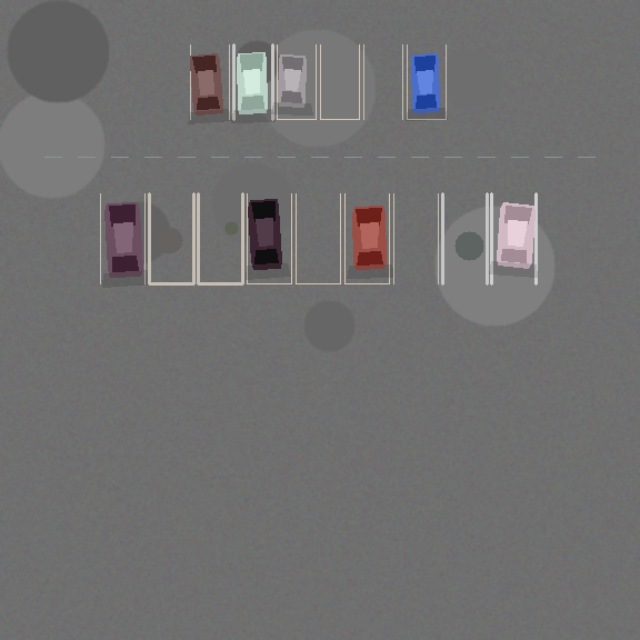space-empty: (393, 193, 438, 283), (442, 193, 487, 283), (149, 193, 193, 283), (198, 193, 242, 283), (296, 193, 340, 283), (320, 44, 359, 119), (363, 44, 402, 119)
space-occupied: (344, 193, 389, 283), (491, 193, 536, 283), (100, 193, 144, 283), (247, 193, 291, 283), (190, 44, 229, 119), (233, 44, 272, 119), (277, 44, 316, 119), (407, 44, 446, 119)
